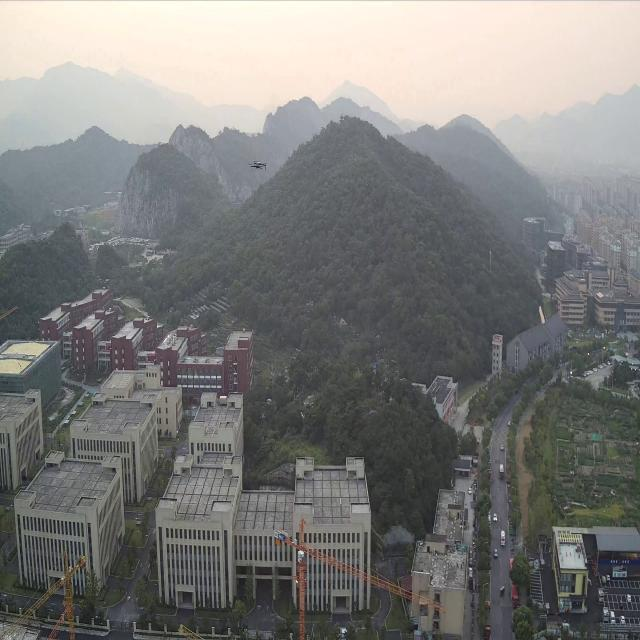UAV: (248, 159, 268, 171)
